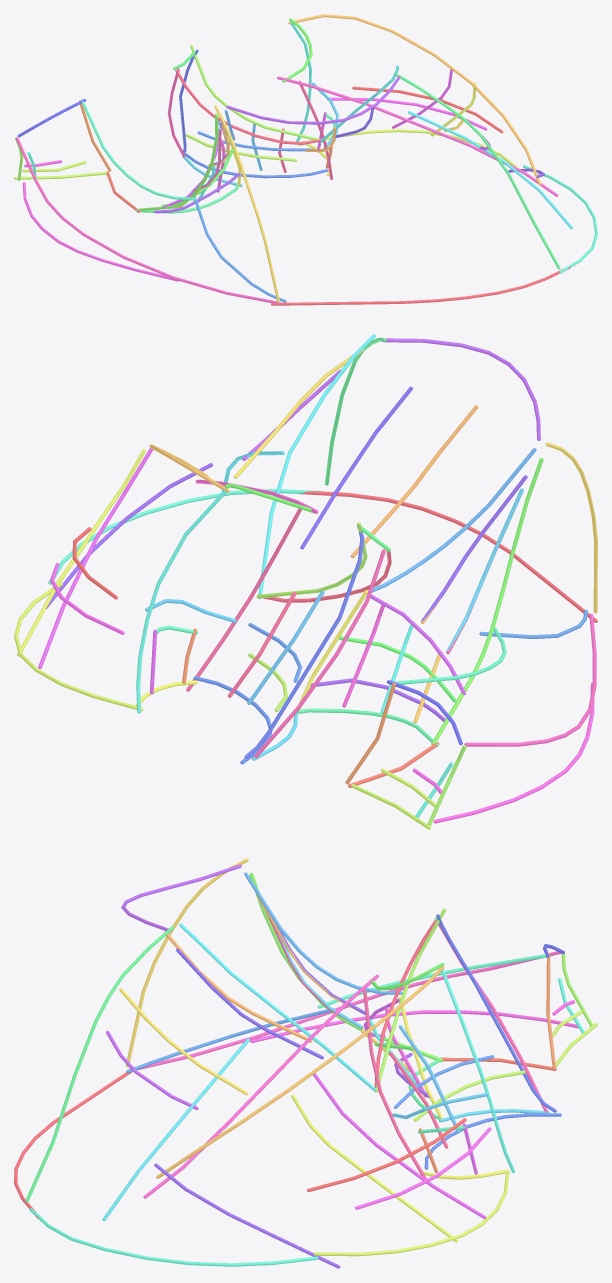
File: author1_building.gltf
The picture shows the model from 3 angles, top to bottom: view 1: azimuth 30°, elevation 25°; view 2: azimuth 150°, elevation 25°; view 3: azimuth 270°, elevation 25°; orthographic projection. The views are drawn at different scales.
Size of the model in its own units: 0.6946 by 0.3004 by 0.6622.
